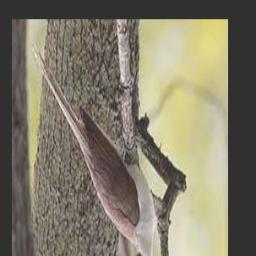Cuckoo: (31, 41, 155, 256)
